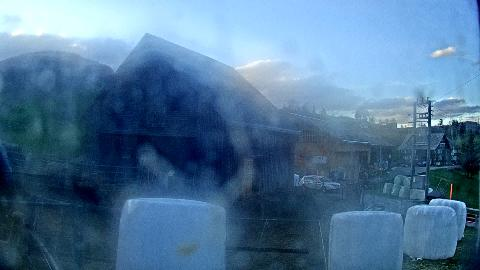car: (300, 175, 340, 192), (418, 161, 426, 167)
sheep: (0, 212, 28, 268), (70, 174, 103, 208)
